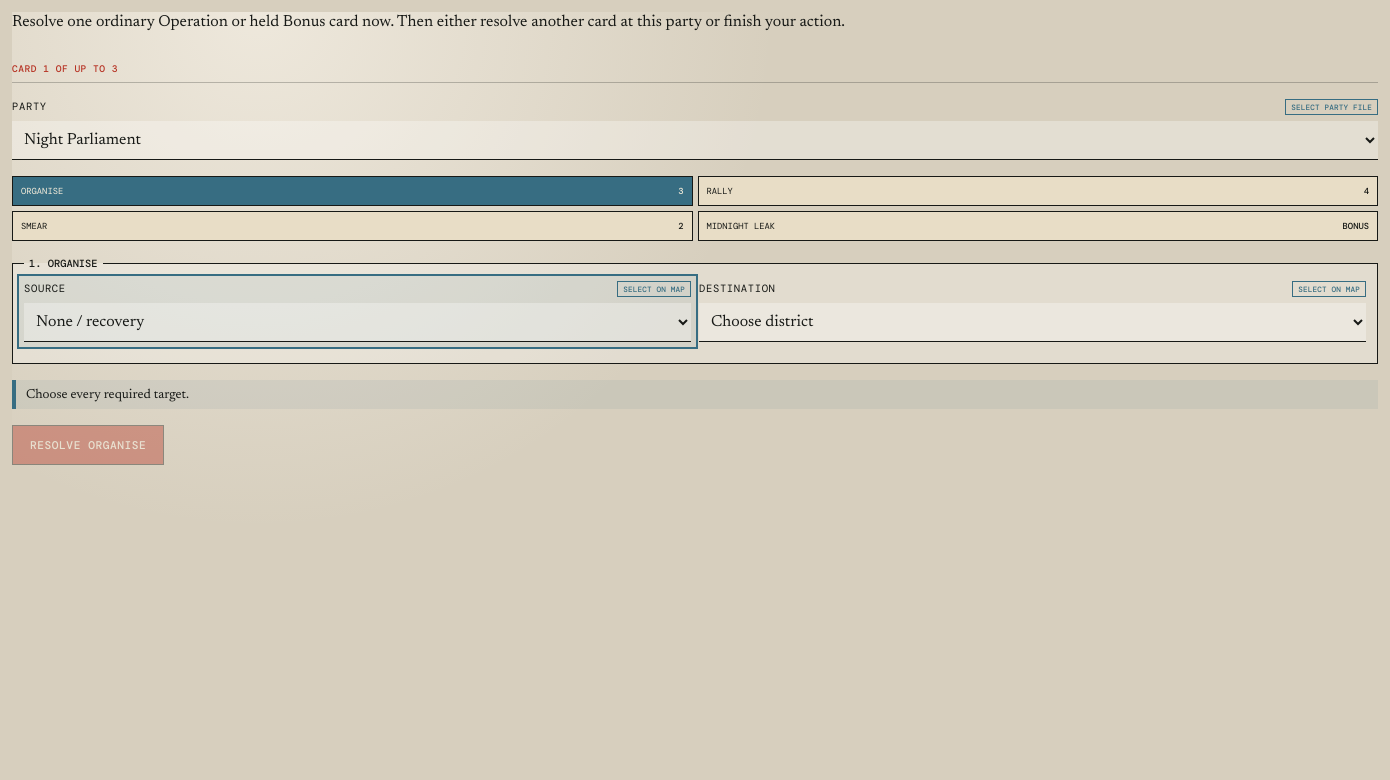
Test: yearly browser play surface › offers a neighboring district for Midnight Leak
Step 1. Click the button "Midnight Leak Bonus" → (741, 226), box [698, 211, 1378, 241]
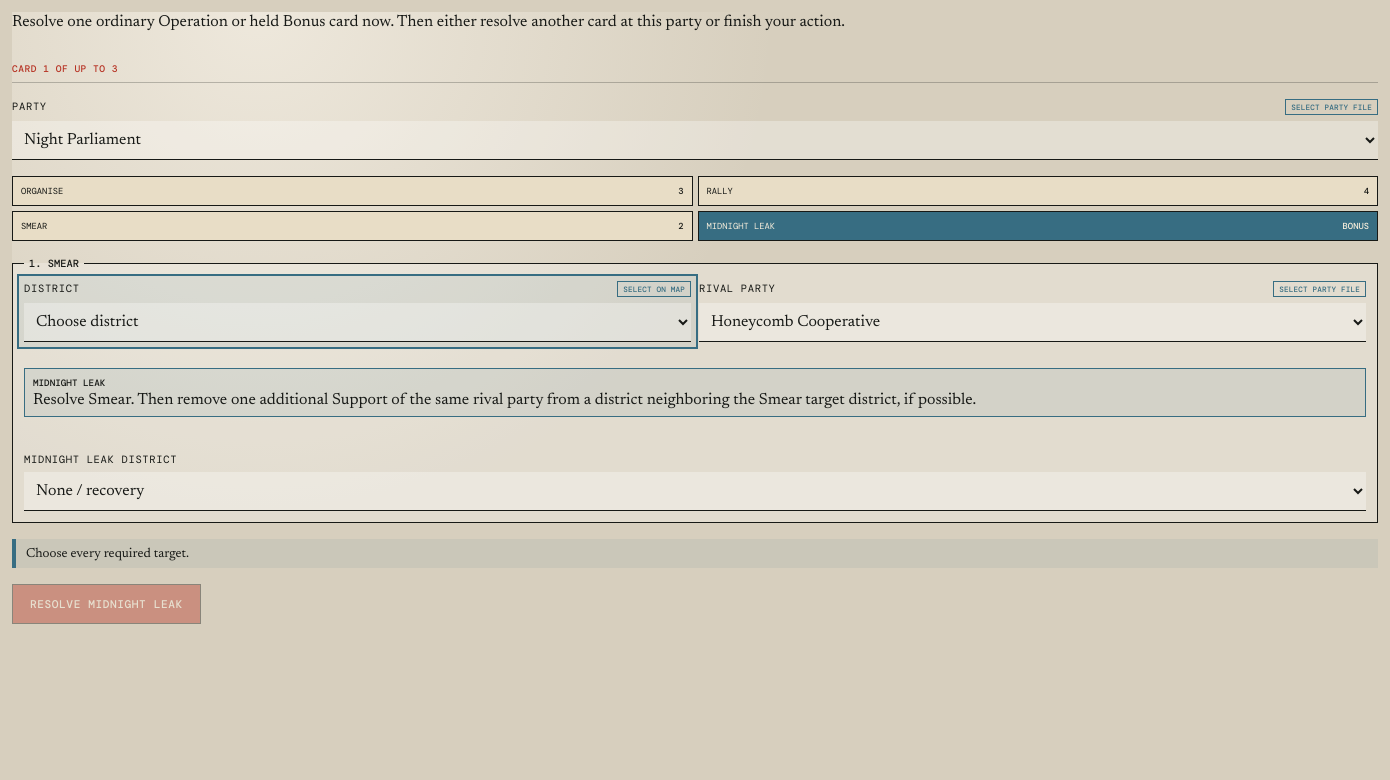
Now the dropdown labelled "Midnight Leak district" is shown, box [24, 472, 1366, 511]
